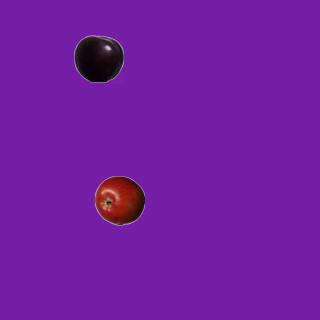Apple Braeburn: (94, 175, 144, 225)
Cherry Wax Black: (73, 33, 123, 83)
